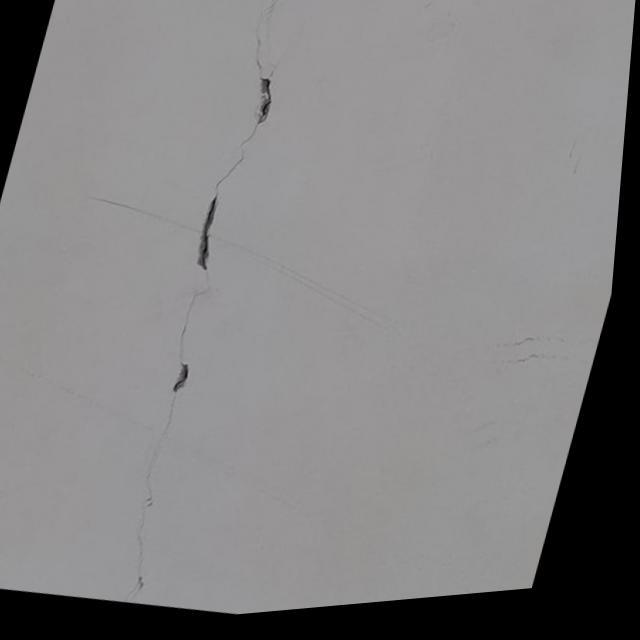Crack: (127, 13, 275, 595)
